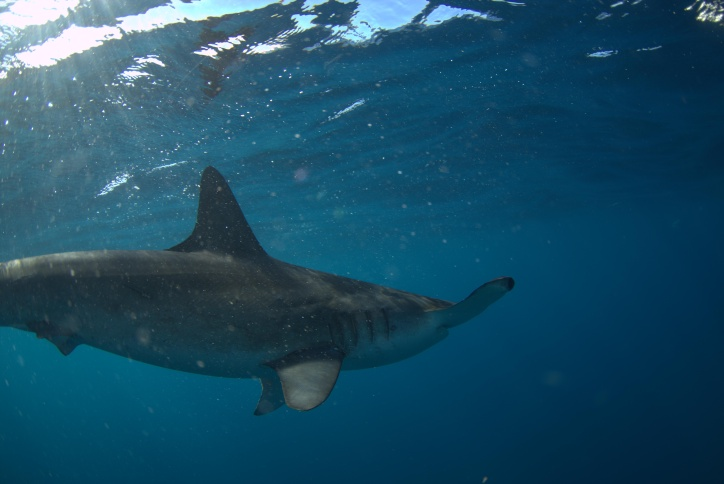Hammer: (1, 155, 584, 433)
